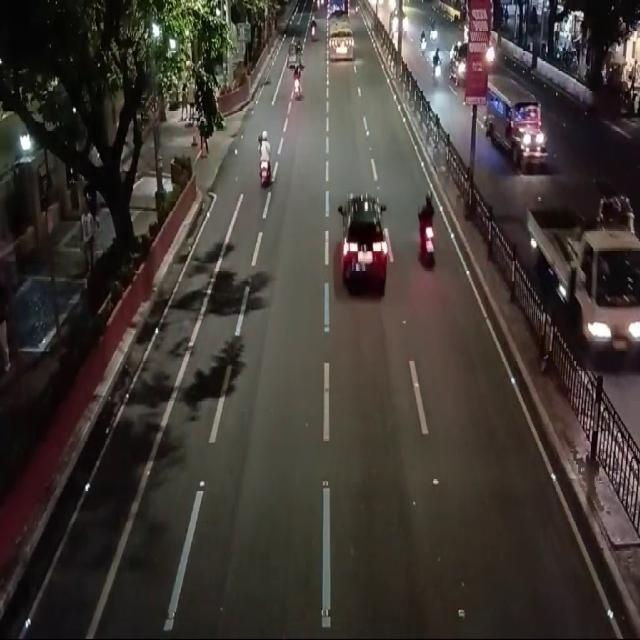car: (327, 181, 394, 321)
jeepney: (478, 71, 553, 174)
motorcycle: (282, 0, 351, 66), (406, 176, 444, 284), (252, 123, 274, 197), (290, 65, 302, 104)
truck: (520, 179, 640, 364)
